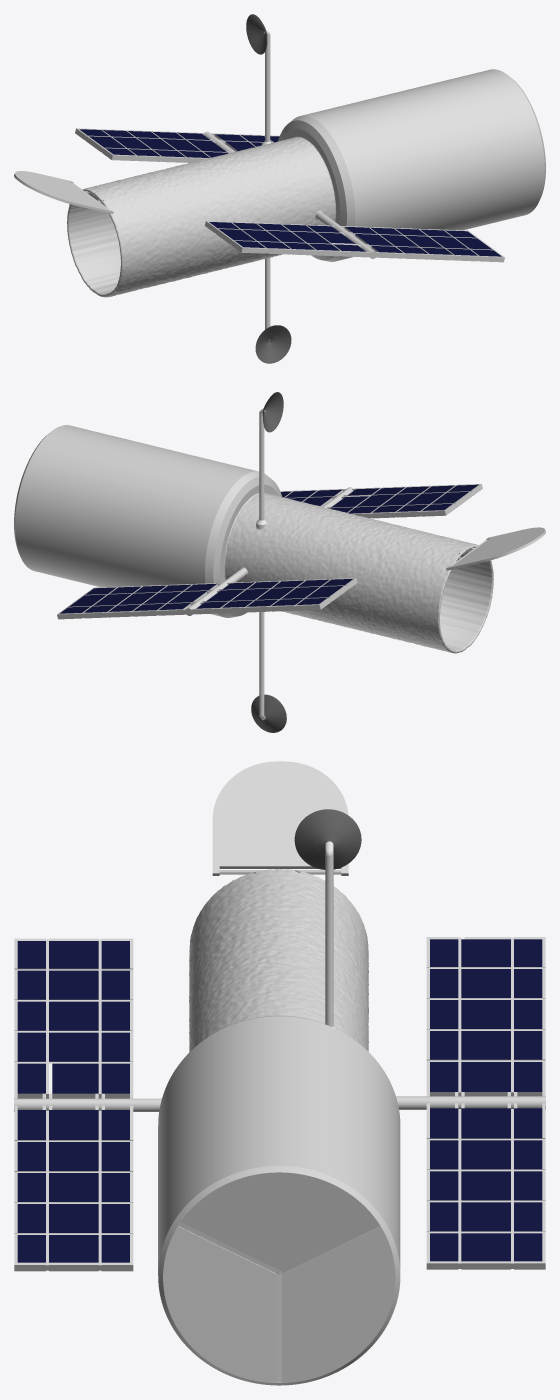
File: Hubble.gltf
3 renders of one model, top to bottom at view 1: azimuth 30°, elevation 25°; view 2: azimuth 150°, elevation 25°; view 3: azimuth 270°, elevation 25°, orthographic. The views are drawn at different scales.
Visible parts, largest first — view 1: Cylinder; view 2: Cylinder; view 3: Cylinder.
Boxes of the visible parts, x1,y1,x2,y2 form: Cylinder: (14, 14, 545, 363); Cylinder: (14, 392, 545, 732); Cylinder: (14, 761, 545, 1385).
Size of the model in its own units: 0.974 by 0.657 by 0.5667.
